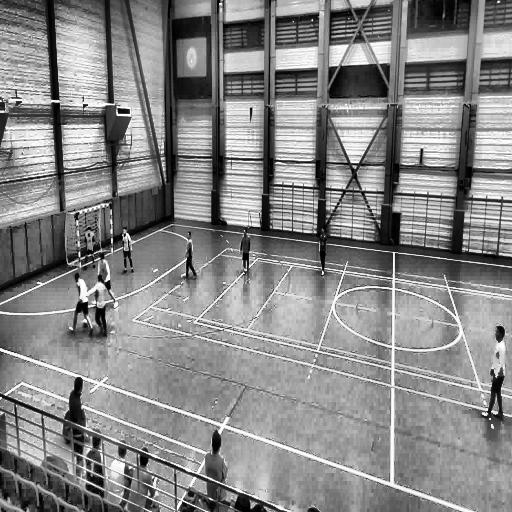ball: (83, 318, 88, 331)
player: (482, 324, 508, 418), (84, 275, 110, 340), (71, 271, 94, 334), (98, 254, 120, 310), (183, 232, 197, 280), (121, 226, 135, 273), (84, 227, 96, 270), (240, 228, 250, 274), (318, 226, 327, 275)
